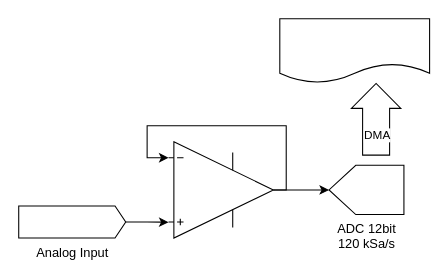
This 448x279 diagram has some shape labels left out. The shapes that lost their labels are listed below. From the top down, each one's box as (x1, y1, x2, y2) in pixels, then its label:
(279, 18, 430, 83): 2048B memory buffer
(167, 141, 273, 238): VOPAMP
